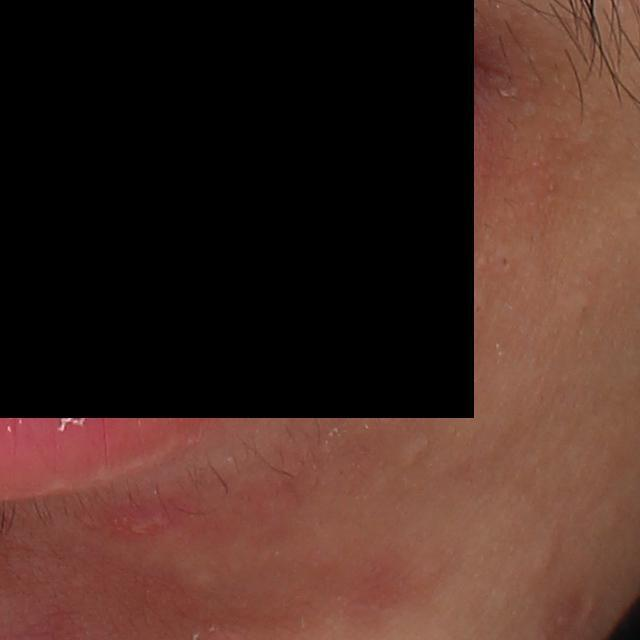comedo: (401, 437, 430, 466)
